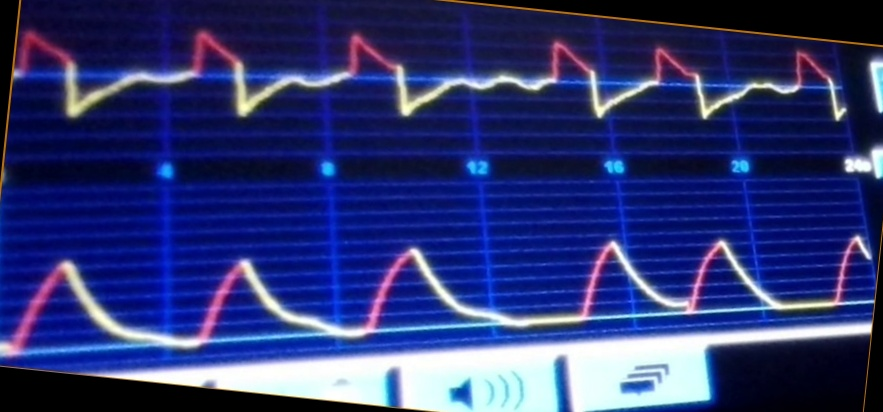Ineffective_effort Flow: (18, 21, 846, 129)
Ineffective_effort Volume: (1, 223, 869, 350)
